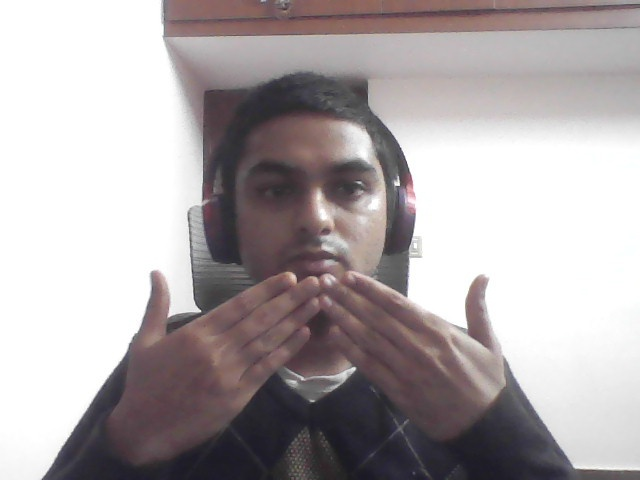Thank You: (93, 247, 527, 455)
